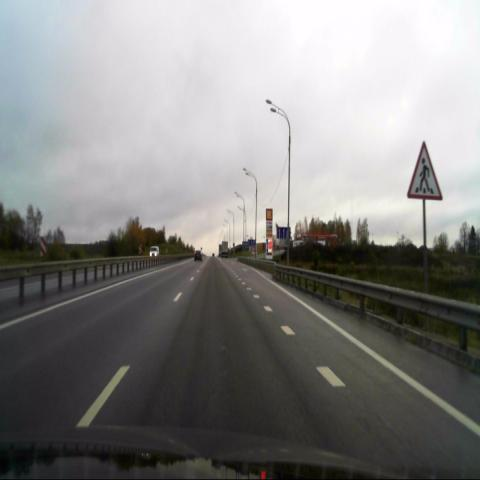1_22: (406, 141, 443, 201)
5_15_1: (277, 226, 291, 238)
